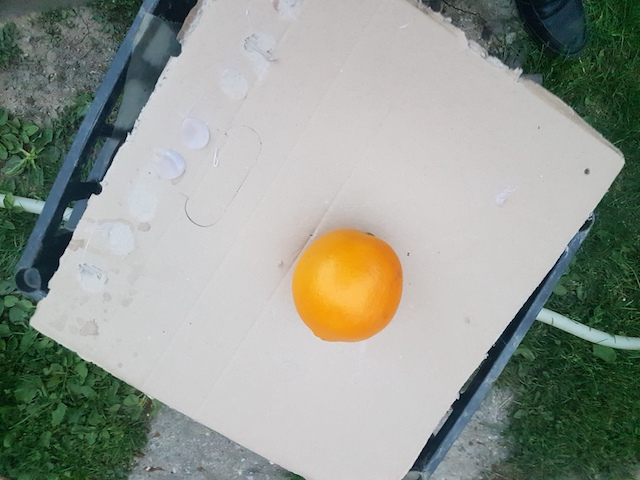orange: (292, 228, 404, 344)
